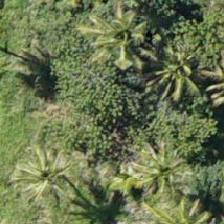coconut_tree: (139, 30, 223, 120), (78, 0, 168, 79)
